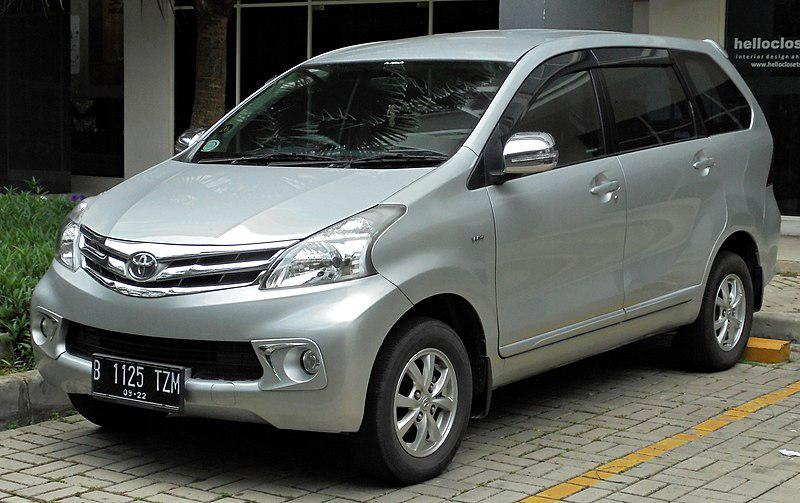plat nomor: (76, 345, 193, 420)
